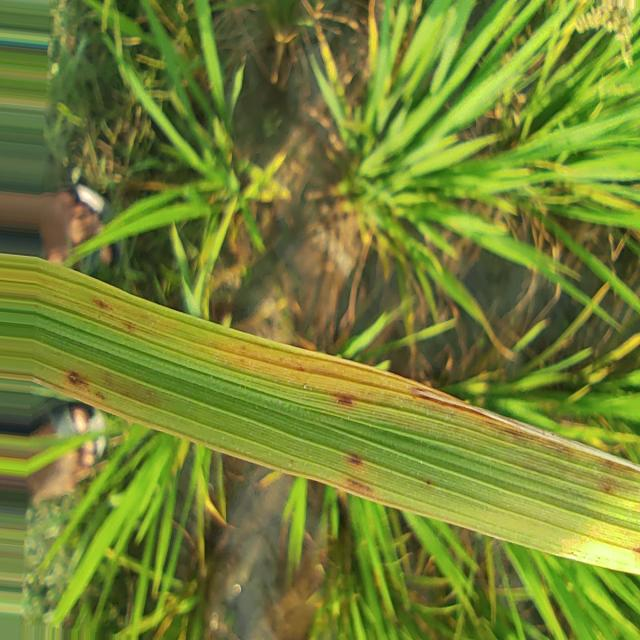Brown_Spot: (339, 477, 371, 498), (92, 297, 112, 312), (336, 392, 354, 407), (68, 370, 84, 385), (346, 453, 362, 467), (604, 483, 614, 493), (422, 477, 431, 487)
